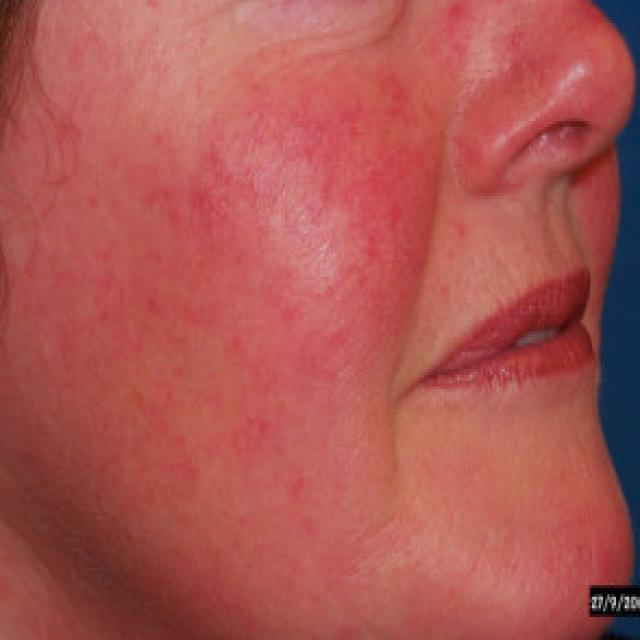Rosacea: (72, 53, 440, 491), (429, 0, 630, 159)
